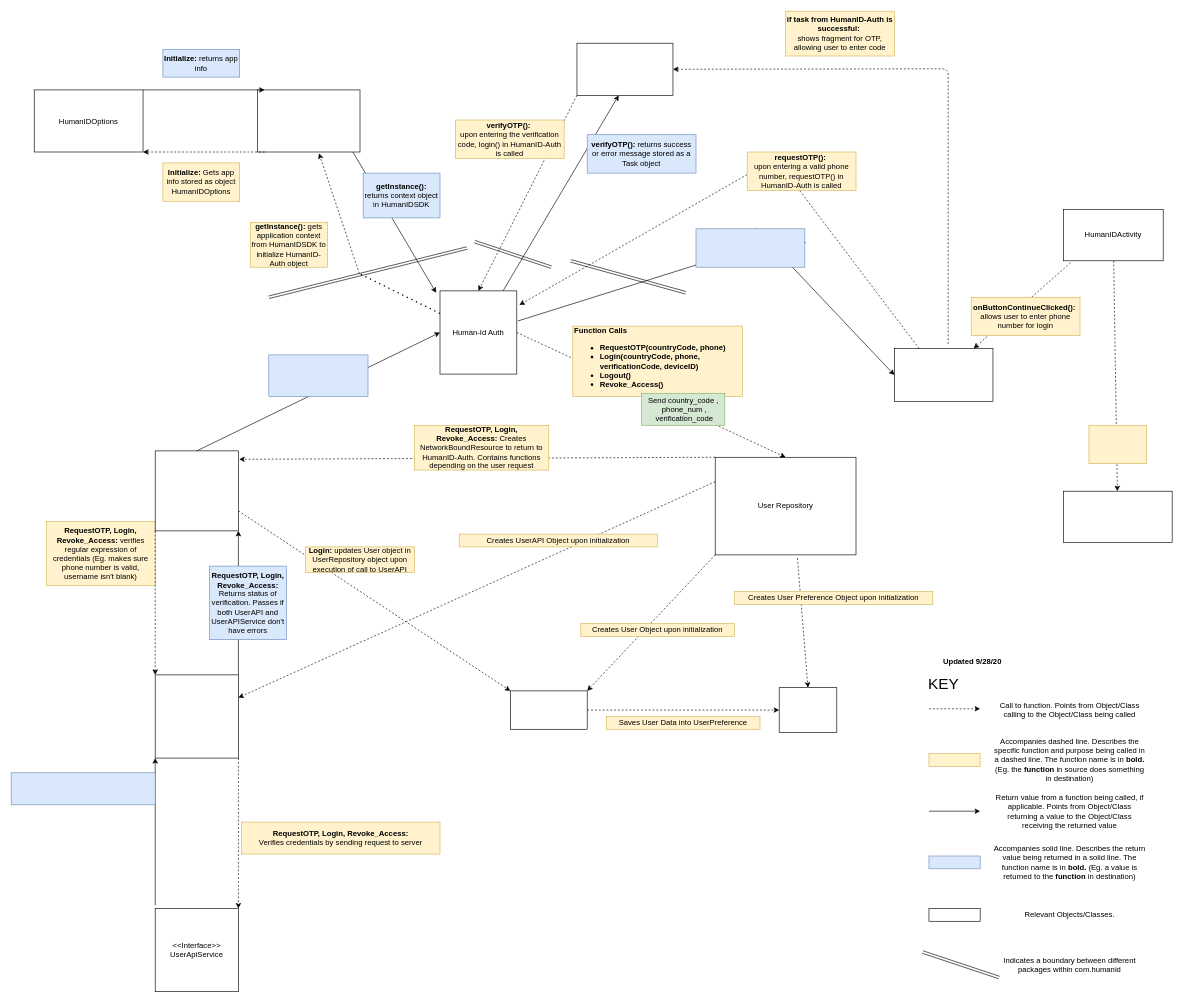
Some shapes in this 1183 by 1003 pixel diagram are drawn without their labels. Here are the shapes that lost their labels. From the top down, the centre of each, then its label:
At [624,69]: "OTP".
At [308,120]: "HumanIDSDK".
At [750,247]: "requestOTP(): returns success or error message stored as a Task object".
At [318,375]: "RequestOTP, Login, Revoke_Access: Returns function calls in LiveData".
At [943,375]: "PhoneNumber".
At [1117,444]: "initProcess(): shows welcome screen".
At [196,490]: "LiveData".
At [1117,516]: "Welcome".
At [196,716]: "UserAPI".
At [548,709]: "User".
At [808,709]: "User Preference".
At [83,788]: "RequestOTP, Login, Revoke_Access: Returns result of verification".
